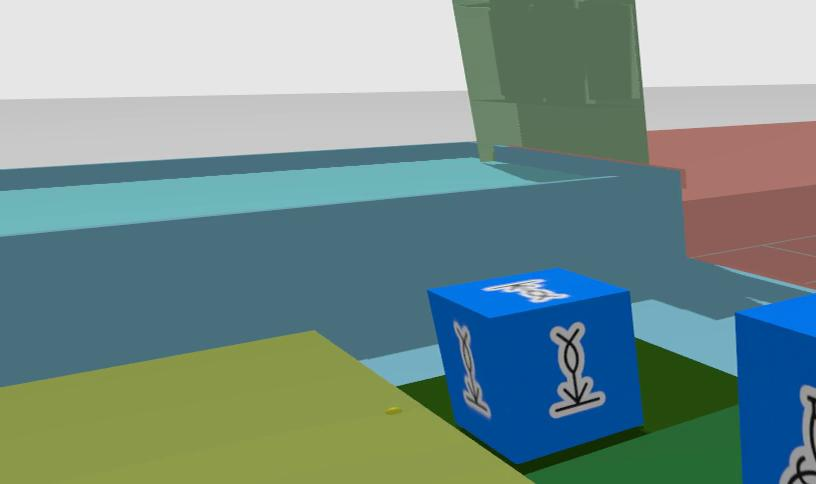KFS_REAL: (428, 269, 642, 462), (736, 292, 816, 484), (550, 322, 604, 417), (453, 322, 490, 417), (780, 388, 816, 484), (484, 279, 568, 302)
